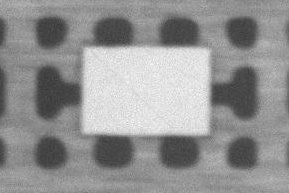DIE_CRACK: (136, 34, 258, 85)
